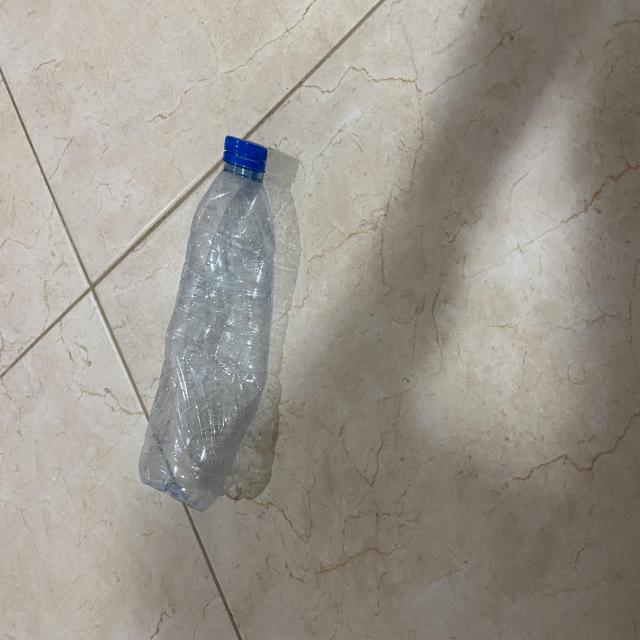bottle: (150, 142, 278, 510)
